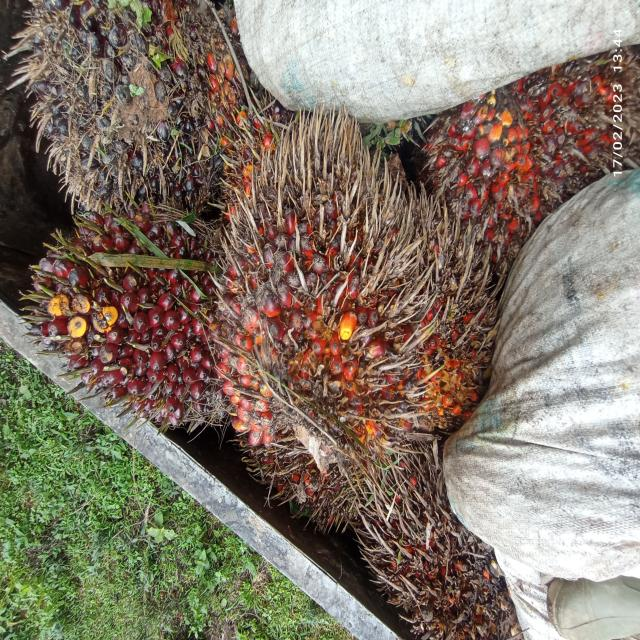fraksi 00: (16, 0, 265, 228)
fraksi 1: (26, 214, 235, 423)
fraksi 4: (209, 103, 445, 518)
